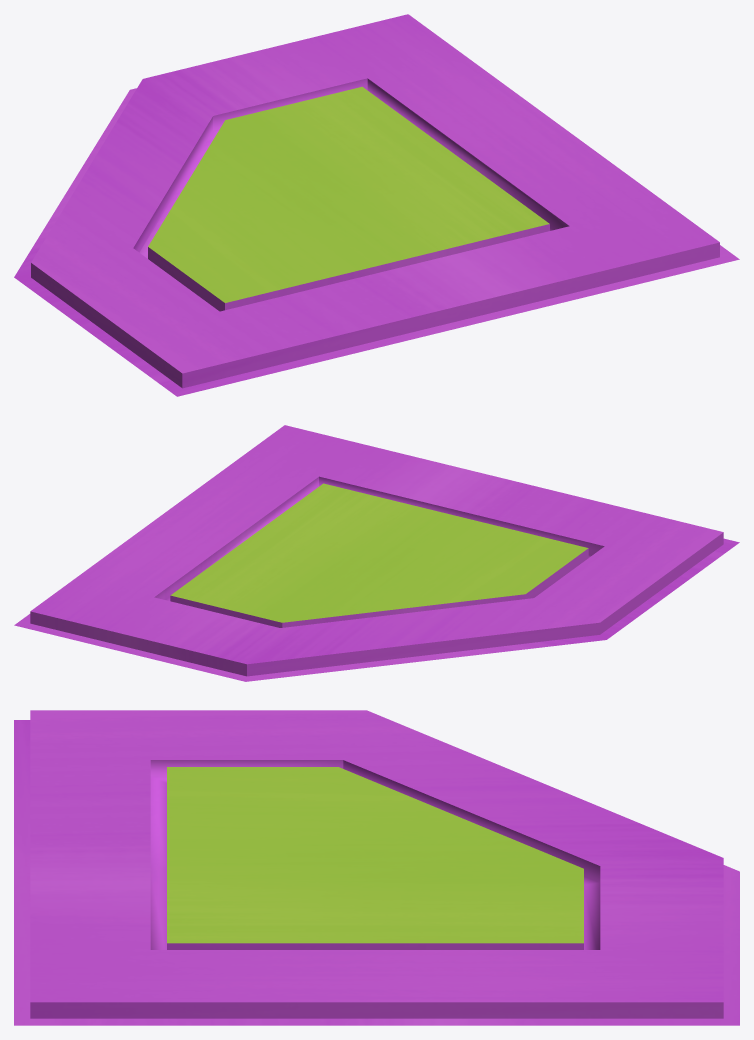
Rendered from Floor4.fbx.
The picture shows the model from 3 angles, top to bottom: view 1: azimuth 30°, elevation 25°; view 2: azimuth 150°, elevation 25°; view 3: azimuth 270°, elevation 25°; orthographic projection. The views are drawn at different scales.
Visible parts, largest first — view 1: fLOOR.005; view 2: fLOOR.005; view 3: fLOOR.005.
Part boxes in pixels (bbox=[...]): fLOOR.005: bbox=[14, 14, 739, 396]; fLOOR.005: bbox=[14, 425, 739, 681]; fLOOR.005: bbox=[14, 710, 739, 1025].
Bounding box in the file's own units: 118 × 2.99 × 119.
